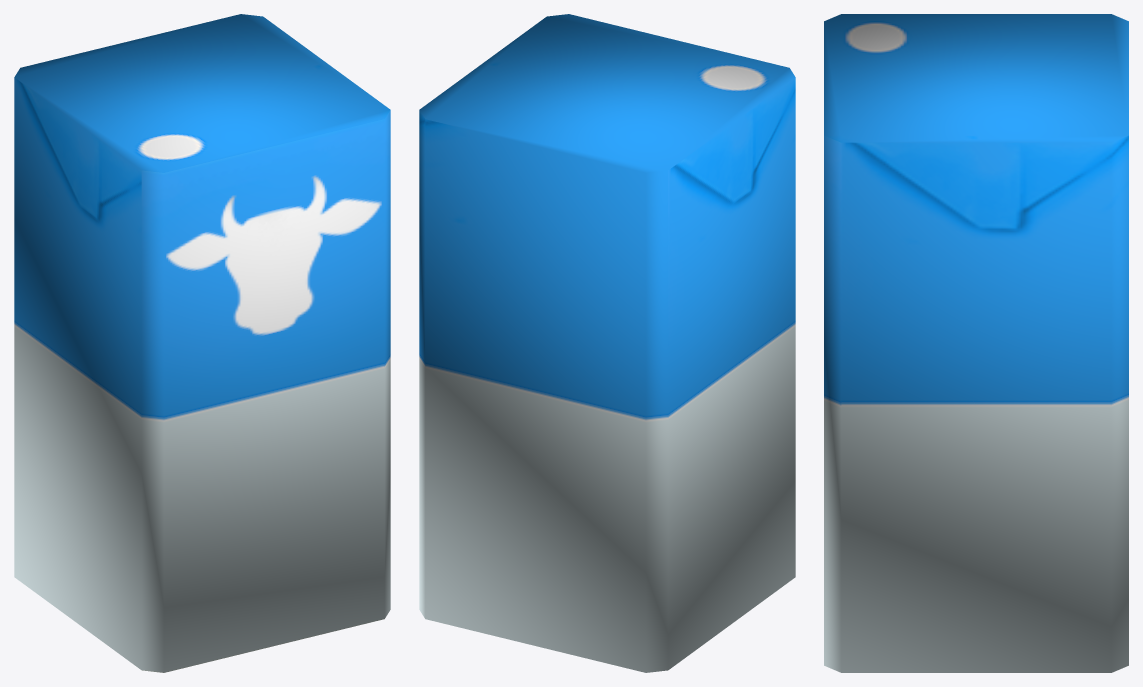
The model's file is white_milk.glb.
3 renders of one model, left to right at view 1: azimuth 30°, elevation 25°; view 2: azimuth 150°, elevation 25°; view 3: azimuth 270°, elevation 25°, orthographic. The views are drawn at different scales.
Visible parts, largest first — view 1: White_Milk; view 2: White_Milk; view 3: White_Milk.
Boxes of the visible parts, <box> form: White_Milk: <box>14,14,390,672</box>; White_Milk: <box>419,14,795,672</box>; White_Milk: <box>824,14,1128,672</box>.
Bounding box in the file's own units: 0.3389 × 0.6504 × 0.3389.
1 material, 1 textured.
